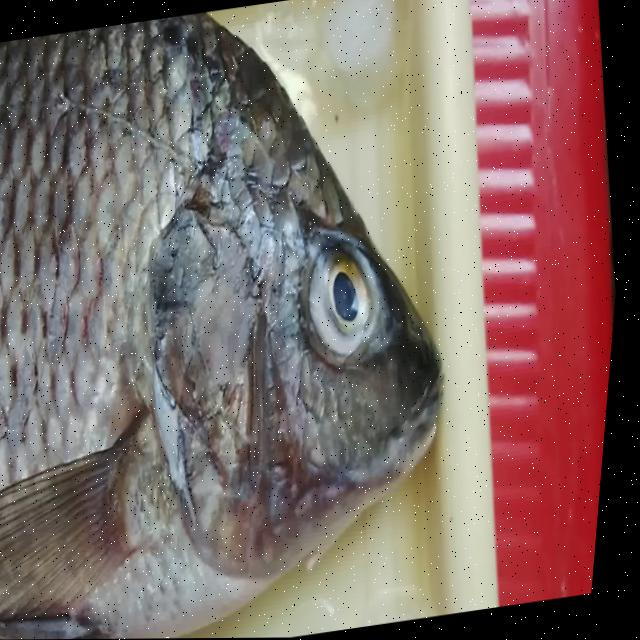Fresh: (0, 62, 265, 635), (295, 208, 406, 382)
